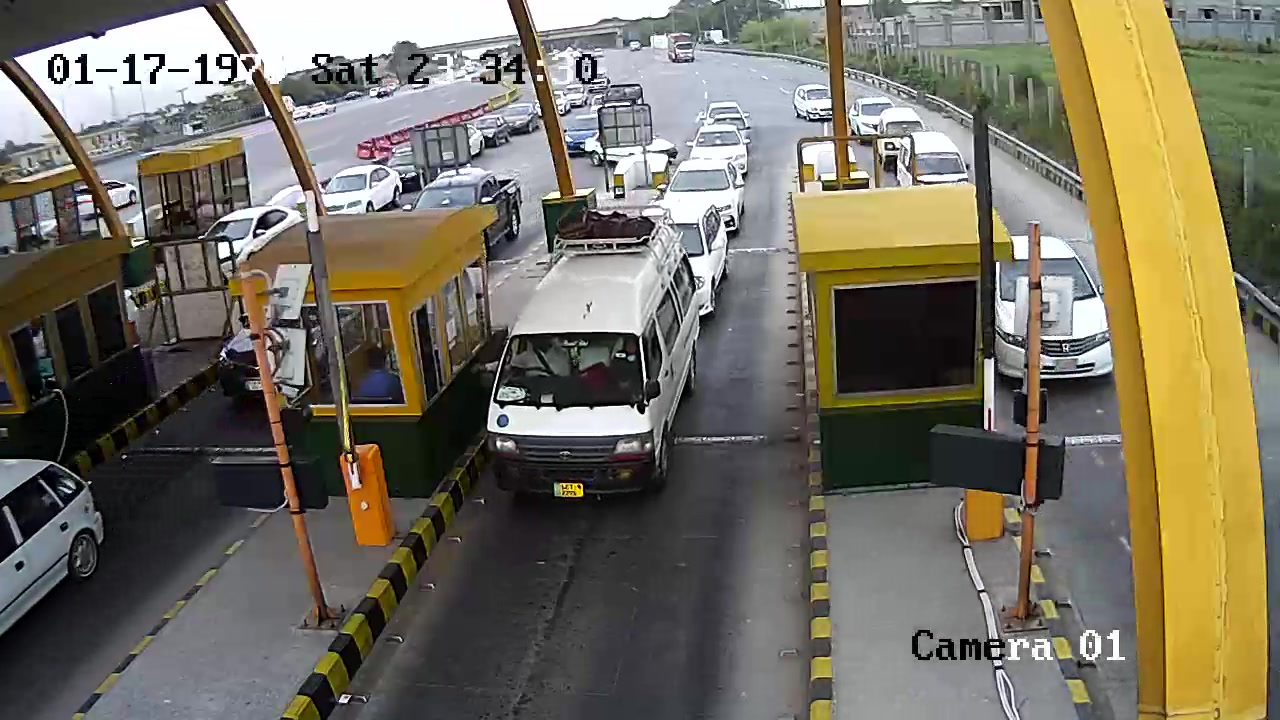F2: (483, 202, 708, 501)
